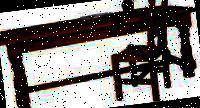Mesa: (0, 0, 199, 107)
Silla: (103, 0, 183, 107)
